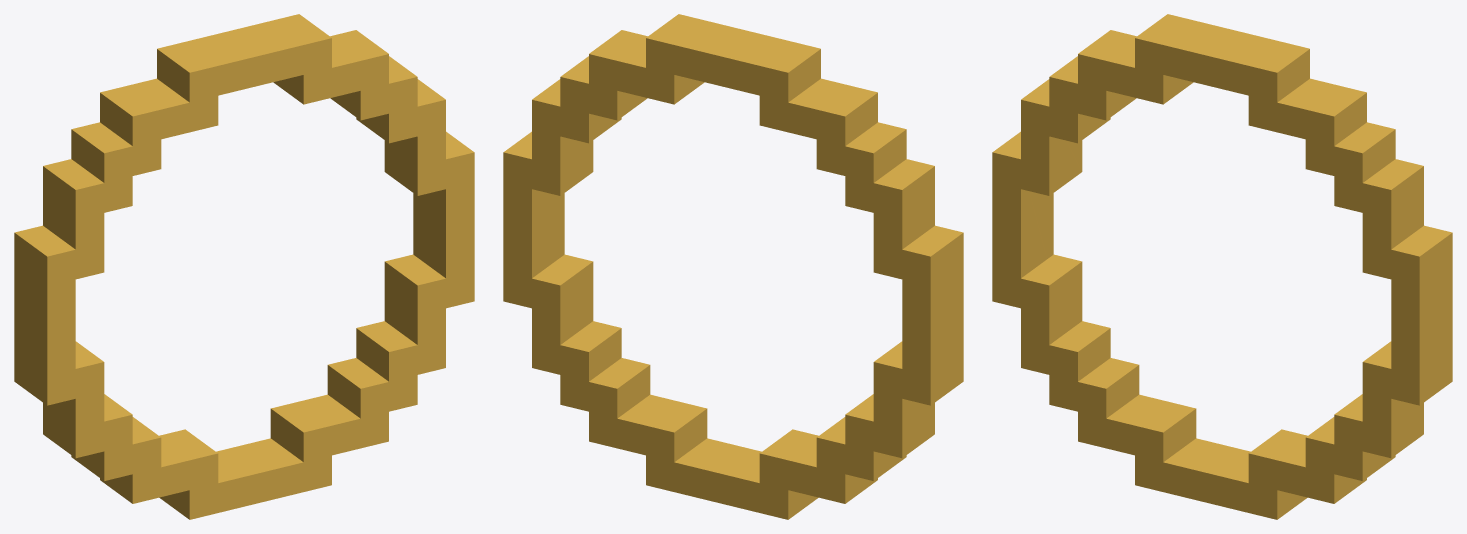
The model's file is Relic.fbx.
3 views of the same model, side by side, from view 1: azimuth 30°, elevation 25°; view 2: azimuth 150°, elevation 25°; view 3: azimuth 330°, elevation 25° (orthographic).
Parts seen in each view (by area): view 1: Cube; view 2: Cube; view 3: Cube.
Part boxes in pixels (box(x1,y1,x2,y2)): Cube: box(14, 14, 474, 519); Cube: box(503, 14, 963, 519); Cube: box(992, 14, 1452, 519).
Size of the model in its own units: 300 by 300 by 40.
